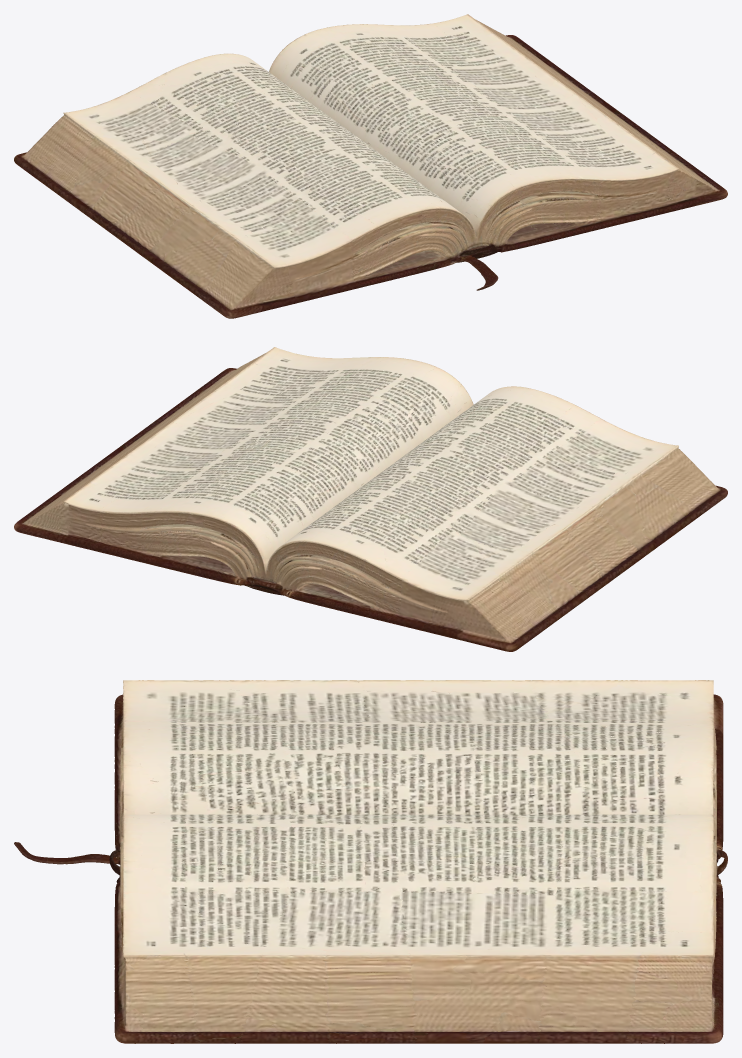
Rendered from open-book_c.glb.
The picture shows the model from 3 angles, top to bottom: view 1: azimuth 30°, elevation 25°; view 2: azimuth 150°, elevation 25°; view 3: azimuth 270°, elevation 25°; orthographic projection. The views are drawn at different scales.
Visible parts, largest first — view 1: Mesh_0.002; view 2: Mesh_0.002; view 3: Mesh_0.002.
Boxes of the visible parts, x1=… form: Mesh_0.002: x1=14, y1=14, x2=727, y2=318; Mesh_0.002: x1=14, y1=347, x2=727, y2=651; Mesh_0.002: x1=14, y1=680, x2=727, y2=1043.
Bounding box in the file's own units: 0.9495 × 0.1132 × 0.8354.
1 material, 1 textured.
